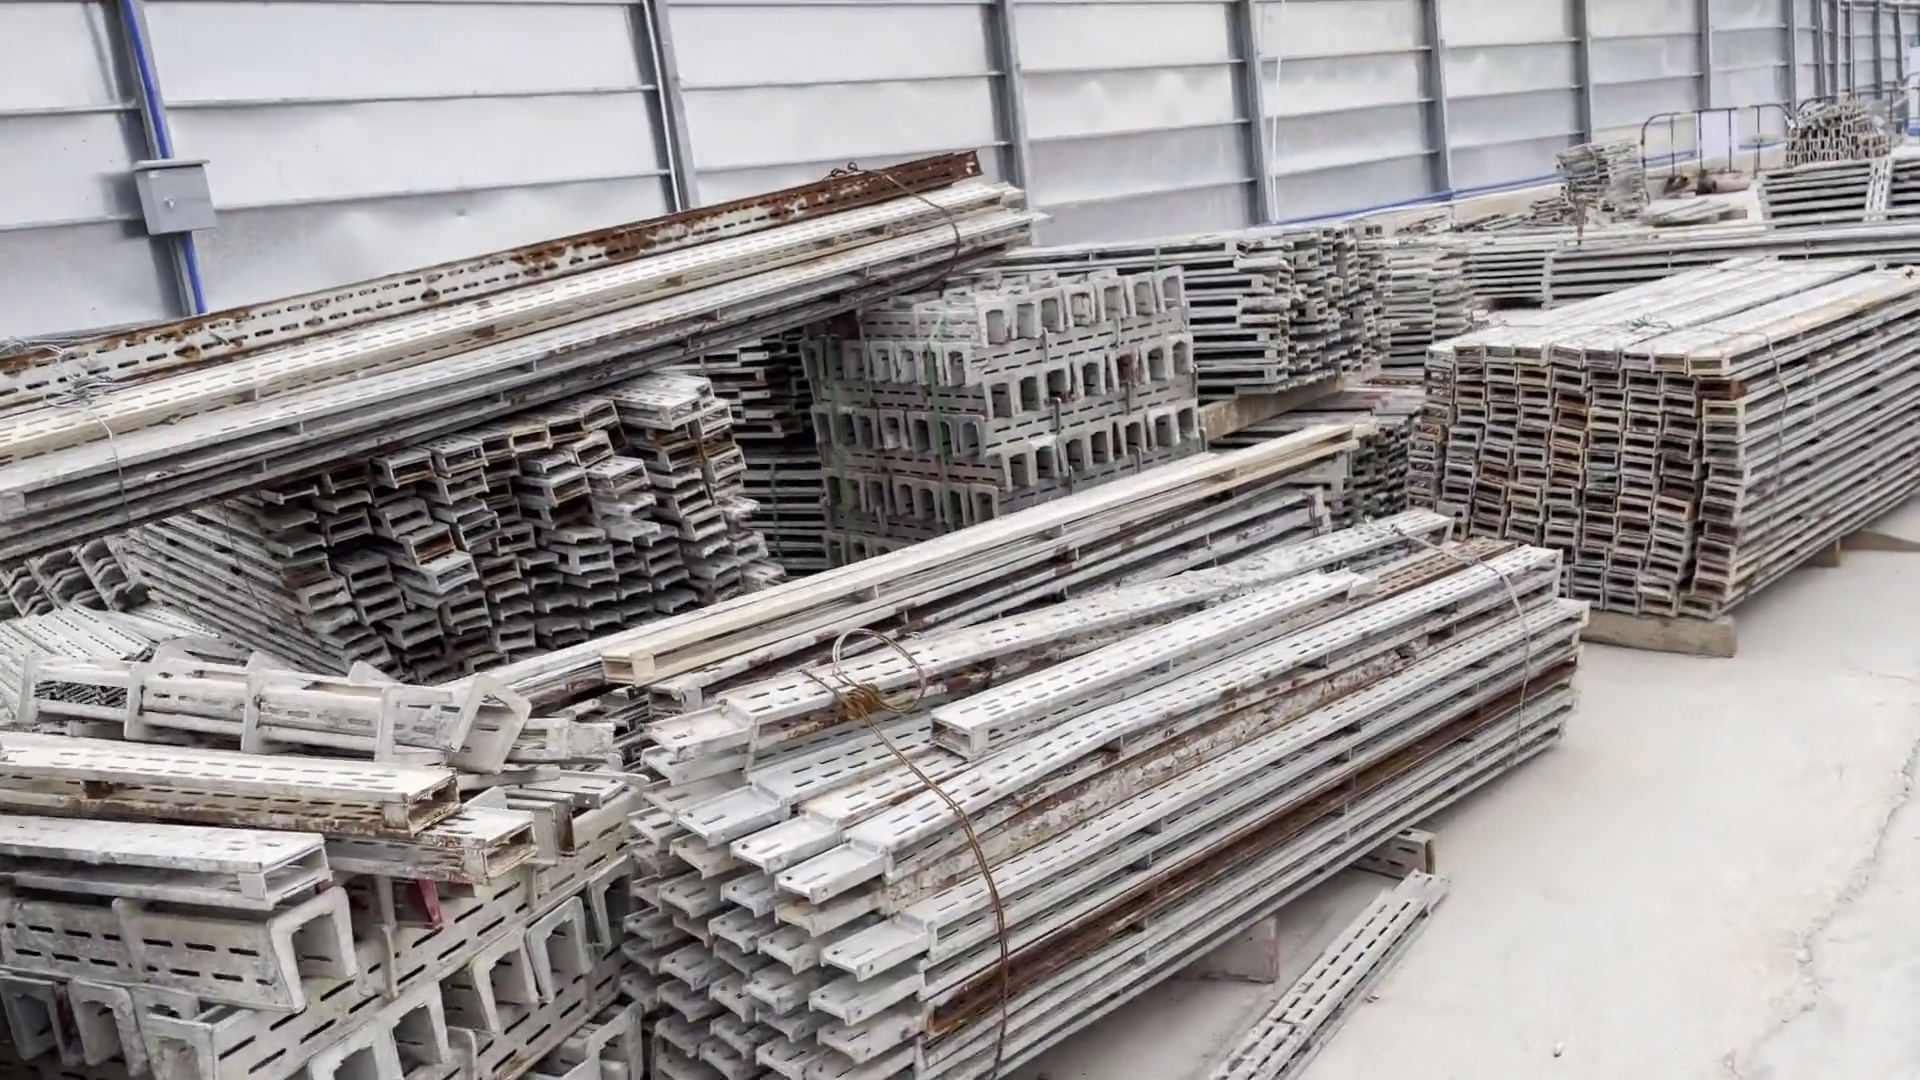ebox: (117, 142, 229, 241)
fence: (1630, 105, 1829, 189)
